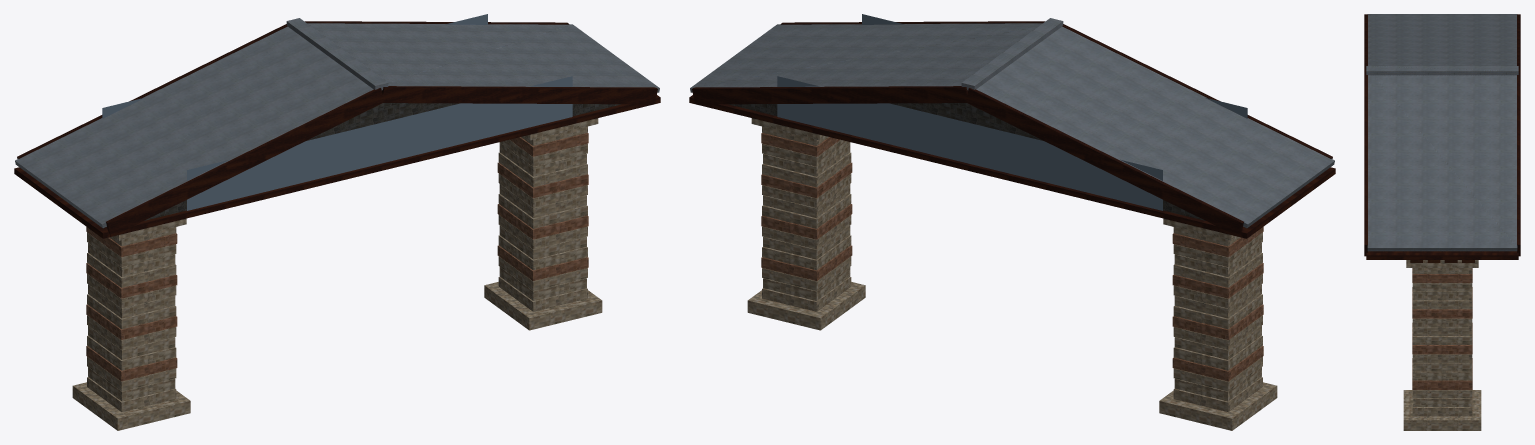
File: atal_gate.glb
The picture shows the model from 3 angles, left to right: view 1: azimuth 30°, elevation 25°; view 2: azimuth 150°, elevation 25°; view 3: azimuth 270°, elevation 25°; orthographic projection. The views are drawn at different scales.
Parts seen in each view (by area): view 1: Span_roof, Span_fascia, PillarL_stone, PillarR_stone, SignB, PillarL_band, PillarR_band, Span_gable; view 2: Span_roof, Span_fascia, PillarL_stone, PillarR_stone, SignF, PillarL_band, PillarR_band, Span_gable; view 3: Span_roof, PillarR_stone, Span_fascia, PillarR_band.
Part boxes in pixels (x1=…): Span_roof: x1=15, y1=18, x2=659, y2=228; Span_fascia: x1=14, y1=21, x2=660, y2=238; PillarL_stone: x1=72, y1=218, x2=190, y2=430; PillarR_stone: x1=484, y1=118, x2=602, y2=330; SignB: x1=187, y1=76, x2=572, y2=210; PillarL_band: x1=86, y1=227, x2=177, y2=381; PillarR_band: x1=497, y1=133, x2=588, y2=280; Span_gable: x1=144, y1=103, x2=620, y2=220; Span_roof: x1=690, y1=18, x2=1334, y2=228; Span_fascia: x1=689, y1=21, x2=1335, y2=238; PillarL_stone: x1=1159, y1=218, x2=1277, y2=430; PillarR_stone: x1=747, y1=118, x2=865, y2=330; SignF: x1=777, y1=76, x2=1162, y2=210; PillarL_band: x1=1172, y1=227, x2=1263, y2=381; PillarR_band: x1=761, y1=133, x2=852, y2=280; Span_gable: x1=729, y1=103, x2=1205, y2=220; Span_roof: x1=1366, y1=14, x2=1518, y2=251; PillarR_stone: x1=1403, y1=260, x2=1481, y2=430; Span_fascia: x1=1364, y1=14, x2=1520, y2=259; PillarR_band: x1=1412, y1=268, x2=1472, y2=389.
Bounding box in the file's own units: 21.43 × 11.13 × 6.04.
Materials: 7 (6 with a texture image).
